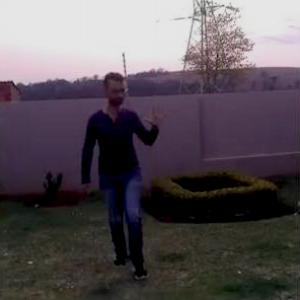follow_hand: (143, 99, 171, 128)
